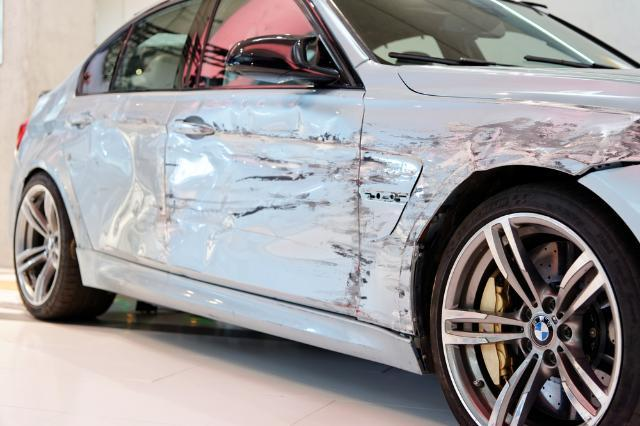dent: (167, 106, 361, 271), (70, 126, 146, 252)
scratch: (356, 115, 640, 329)
